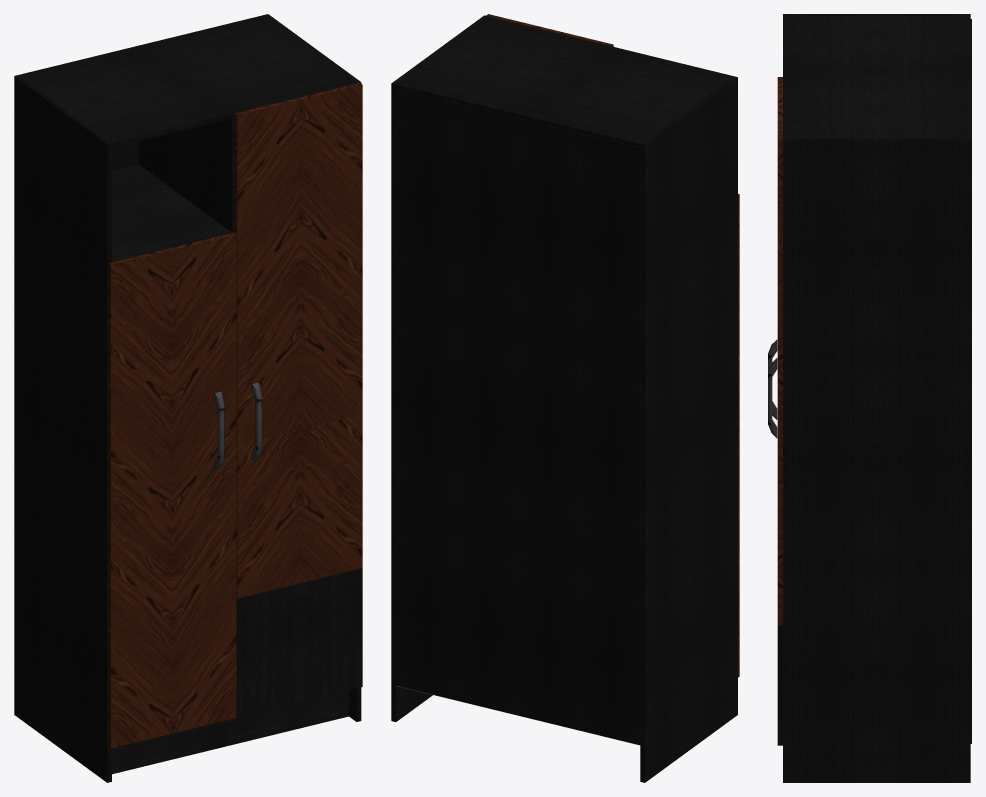
File: scandinavian-closet.glb
3 renders of one model, left to right at view 1: azimuth 30°, elevation 25°; view 2: azimuth 150°, elevation 25°; view 3: azimuth 270°, elevation 25°, orthographic.
Visible parts, largest first — view 1: Box003, Box006, Box007 (×2), Box005, Box008 (×2), Box004, Box010, Box009; view 2: Box007, Box003, Box005, Box006; view 3: Box003, Box005, Box007 (×2), Box008, Box010.
Boxes of the visible parts, x1,y1,x2,y2 form: Box003: [14, 14, 361, 782]; Box006: [108, 232, 236, 748]; Box007 (×2): [112, 83, 362, 598]; Box005: [19, 15, 356, 147]; Box008 (×2): [112, 568, 362, 774]; Box004: [112, 118, 234, 262]; Box010: [251, 381, 261, 460]; Box009: [214, 391, 224, 469]; Box007: [394, 88, 641, 745]; Box003: [391, 15, 737, 782]; Box005: [396, 16, 732, 147]; Box006: [738, 194, 739, 677]; Box003: [783, 14, 970, 782]; Box005: [783, 16, 970, 136]; Box007 (×2): [777, 19, 971, 743]; Box008: [777, 625, 782, 745]; Box010: [768, 358, 777, 438].
Bounding box in the file's own units: 22.4 × 53.86 × 15.45.
11 materials, 10 textured.
